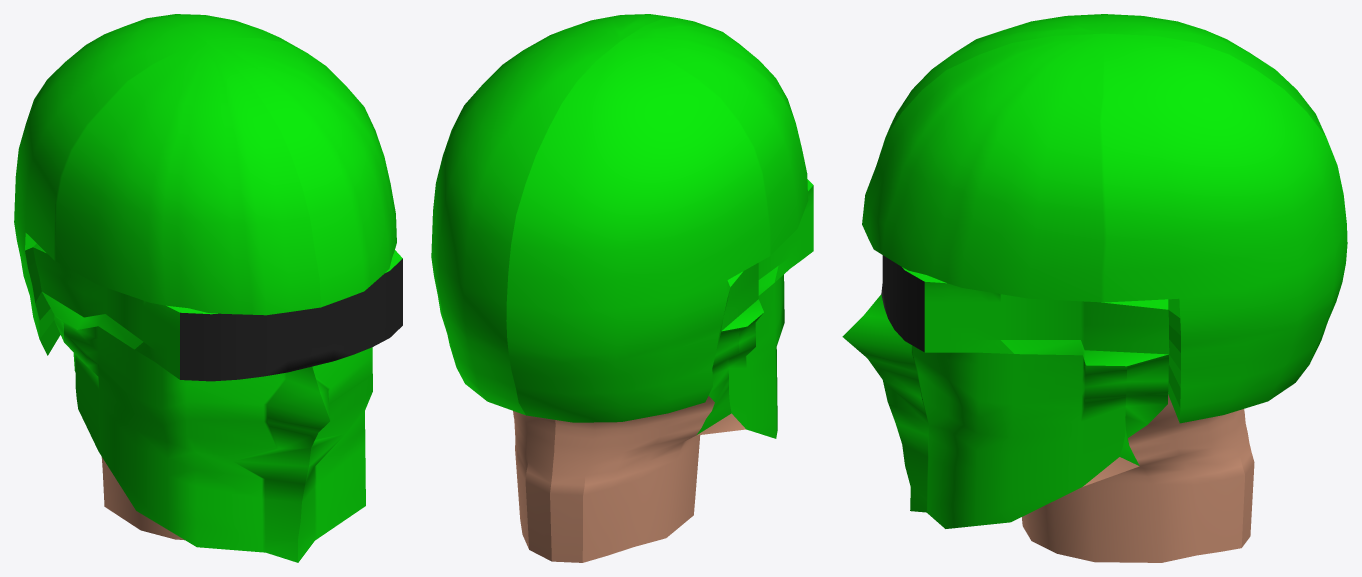
The model's file is SOLDIERHEAD 1.fbx.
3 renders of one model, left to right at view 1: azimuth 30°, elevation 25°; view 2: azimuth 150°, elevation 25°; view 3: azimuth 270°, elevation 25°, orthographic. The views are drawn at different scales.
Visible parts, largest first — view 1: pasted__pCylinder8; view 2: pasted__pCylinder8; view 3: pasted__pCylinder8.
Part boxes in pixels (x1,y1,x2,y2): pasted__pCylinder8: (14, 14, 402, 562); pasted__pCylinder8: (431, 14, 813, 562); pasted__pCylinder8: (842, 14, 1347, 562).
Bounding box in the file's own units: 4.68 × 7.03 × 6.4.
